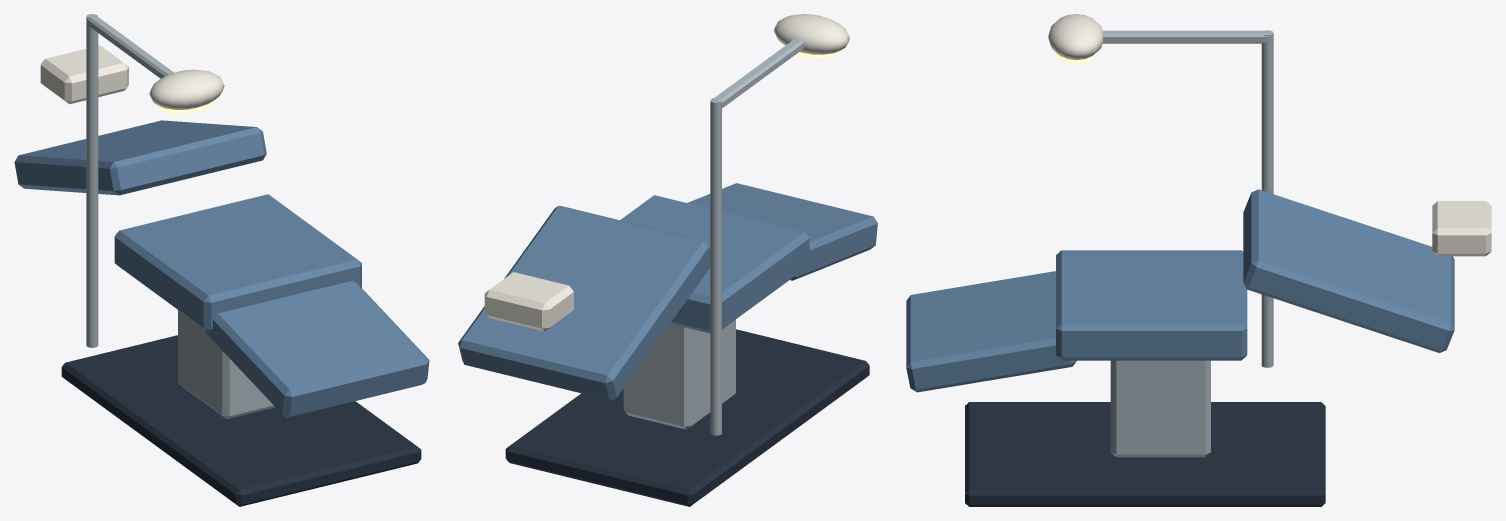
Rendered from clinic_08.glb.
3 views of the same model, side by side, from view 1: azimuth 30°, elevation 25°; view 2: azimuth 150°, elevation 25°; view 3: azimuth 270°, elevation 25° (orthographic).
Visible parts, largest first — view 1: DentalBase, DentalSeat, LegPad, BackPad, LiftRam, DentalLampMast, Headrest, DentalLamp, LampArm; view 2: BackPad, DentalBase, DentalSeat, LiftRam, LegPad, DentalLampMast, Headrest, DentalLamp, LampArm; view 3: DentalBase, BackPad, DentalSeat, LegPad, LiftRam, Headrest, DentalLampMast, LampArm, DentalLamp.
Boxes of the visible parts, x1,y1,x2,y2 form: DentalBase: [61, 335, 421, 506]; DentalSeat: [114, 194, 361, 331]; LegPad: [205, 280, 429, 417]; BackPad: [14, 120, 266, 195]; LiftRam: [178, 310, 275, 419]; DentalLampMast: [86, 14, 98, 347]; Headrest: [40, 45, 128, 104]; DentalLamp: [149, 69, 224, 109]; LampArm: [86, 15, 174, 78]; BackPad: [458, 205, 710, 400]; DentalBase: [505, 329, 869, 506]; DentalSeat: [620, 195, 809, 333]; LiftRam: [623, 319, 735, 429]; LegPad: [687, 183, 877, 280]; DentalLampMast: [710, 98, 721, 435]; Headrest: [484, 272, 573, 331]; DentalLamp: [774, 14, 849, 54]; LampArm: [712, 38, 803, 108]; DentalBase: [965, 402, 1325, 506]; BackPad: [1243, 189, 1454, 352]; DentalSeat: [1056, 250, 1247, 360]; LegPad: [906, 271, 1076, 392]; LiftRam: [1110, 360, 1210, 457]; Headrest: [1432, 201, 1491, 256]; DentalLampMast: [1261, 30, 1273, 367]; LampArm: [1102, 30, 1268, 43]; DentalLamp: [1048, 14, 1103, 60].
Size of the model in its own units: 0.805 by 1.4 by 1.87.
